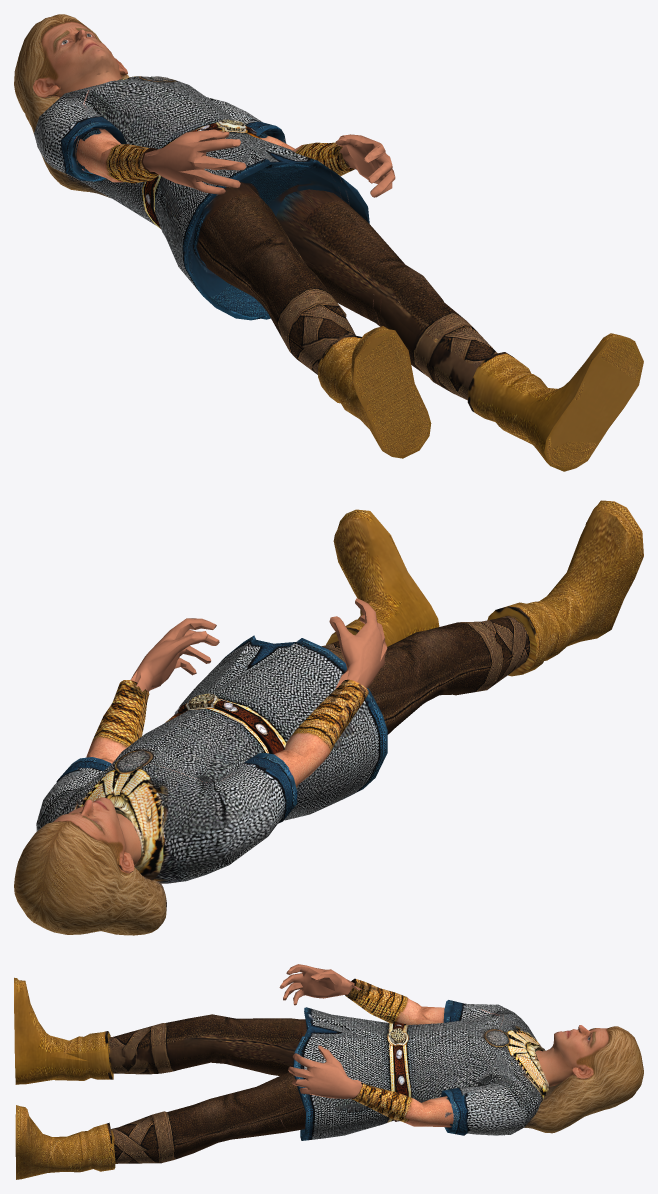
The model's file is mm9_deco_sigmunddead.glb.
3 views of the same model, one above another, from view 1: azimuth 30°, elevation 25°; view 2: azimuth 150°, elevation 25°; view 3: azimuth 270°, elevation 25° (orthographic). The views are drawn at different scales.
Parts seen in each view (by area): view 1: sigmunddead; view 2: sigmunddead; view 3: sigmunddead.
Boxes of the visible parts, left/top/right/bottom form: sigmunddead: left=14, top=14, right=643, bottom=471; sigmunddead: left=14, top=500, right=643, bottom=935; sigmunddead: left=14, top=964, right=643, bottom=1179.
Size of the model in its own units: 0.6589 by 0.4855 by 1.74.
Materials: 2 (2 with a texture image).
